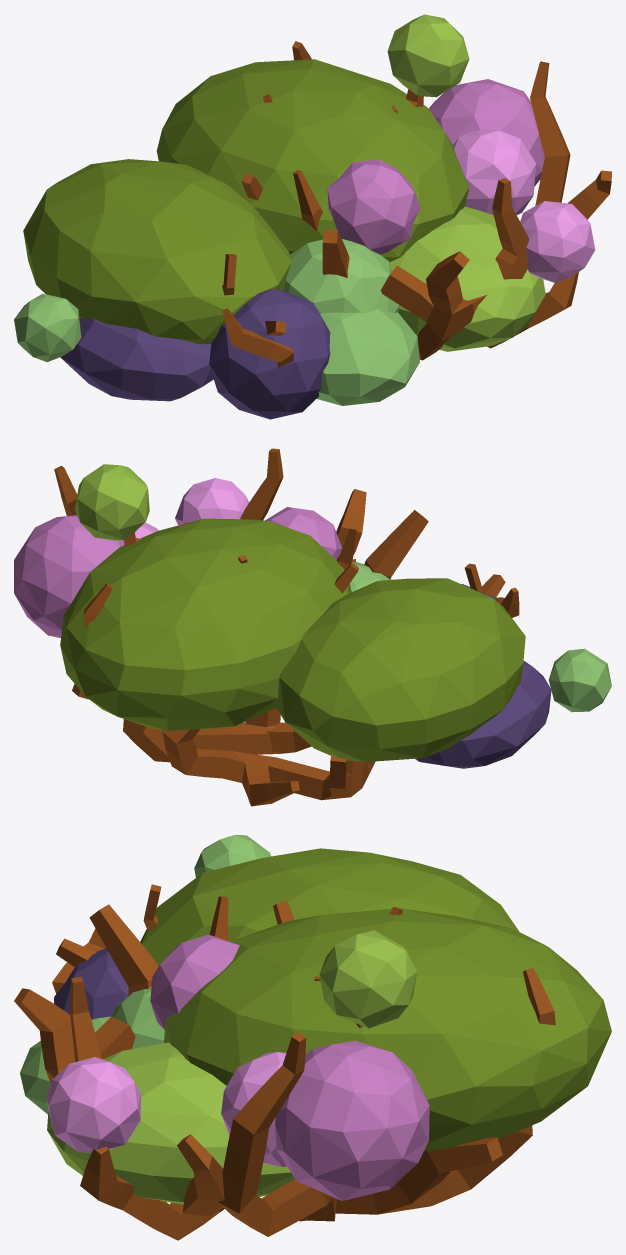
Rendered from live bush.fbx.
3 renders of one model, top to bottom at view 1: azimuth 30°, elevation 25°; view 2: azimuth 150°, elevation 25°; view 3: azimuth 270°, elevation 25°, orthographic. The views are drawn at different scales.
Parts seen in each view (by area): view 1: Sphere.270, Cube.013; view 2: Sphere.270, Cube.013; view 3: Sphere.270, Cube.013.
Part boxes in pixels (x1,y1,x2,y2): Sphere.270: (14,14,595,419); Cube.013: (222,41,611,367); Sphere.270: (14,464,611,768); Cube.013: (54,448,519,806); Sphere.270: (20,835,611,1204); Cube.013: (14,884,555,1240).
Bounding box in the file's own units: 230 × 110 × 175.
